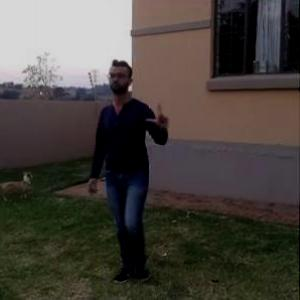land_hand: (143, 98, 173, 133)
